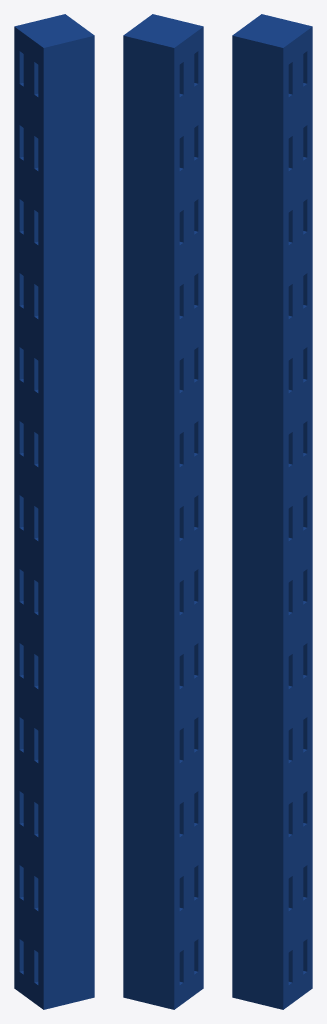
The model's file is Shelf_06_Support.glb.
3 renders of one model, left to right at view 1: azimuth 30°, elevation 25°; view 2: azimuth 150°, elevation 25°; view 3: azimuth 330°, elevation 25°, orthographic.
Visible parts, largest first — view 1: Mesh_Shelf_06_Support; view 2: Mesh_Shelf_06_Support; view 3: Mesh_Shelf_06_Support.
Boxes of the visible parts, x1,y1,x2,y2 form: Mesh_Shelf_06_Support: [14, 14, 94, 1009]; Mesh_Shelf_06_Support: [123, 14, 203, 1009]; Mesh_Shelf_06_Support: [232, 14, 312, 1009].
Size of the model in its own units: 0.1 by 1.8 by 0.1.
1 material, 1 textured.
